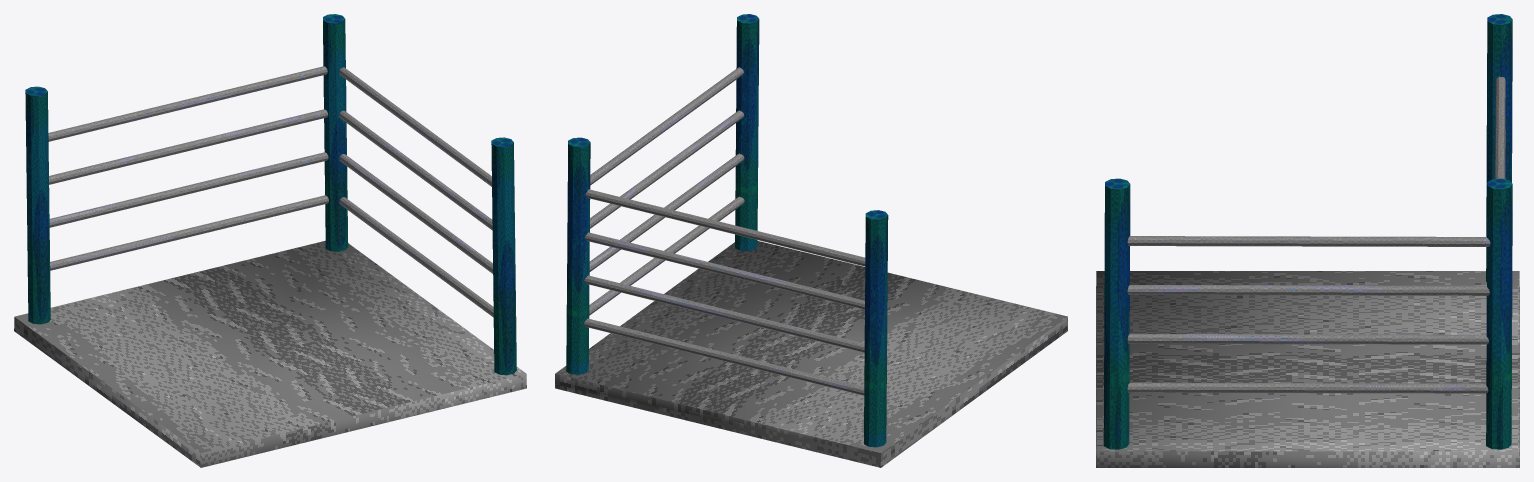
The model's file is corner_walkway.glb.
The picture shows the model from 3 angles, left to right: view 1: azimuth 30°, elevation 25°; view 2: azimuth 150°, elevation 25°; view 3: azimuth 270°, elevation 25°; orthographic projection. The views are drawn at different scales.
Parts seen in each view (by area): view 1: corner; view 2: corner; view 3: corner.
Boxes of the visible parts, <box> form: corner: <box>14,14,526,467</box>; corner: <box>555,14,1067,467</box>; corner: <box>1096,14,1519,467</box>.
Size of what is drawn, in the model's own units: 8.73 by 6.22 by 8.67.
Materials: 3 (3 with a texture image).
